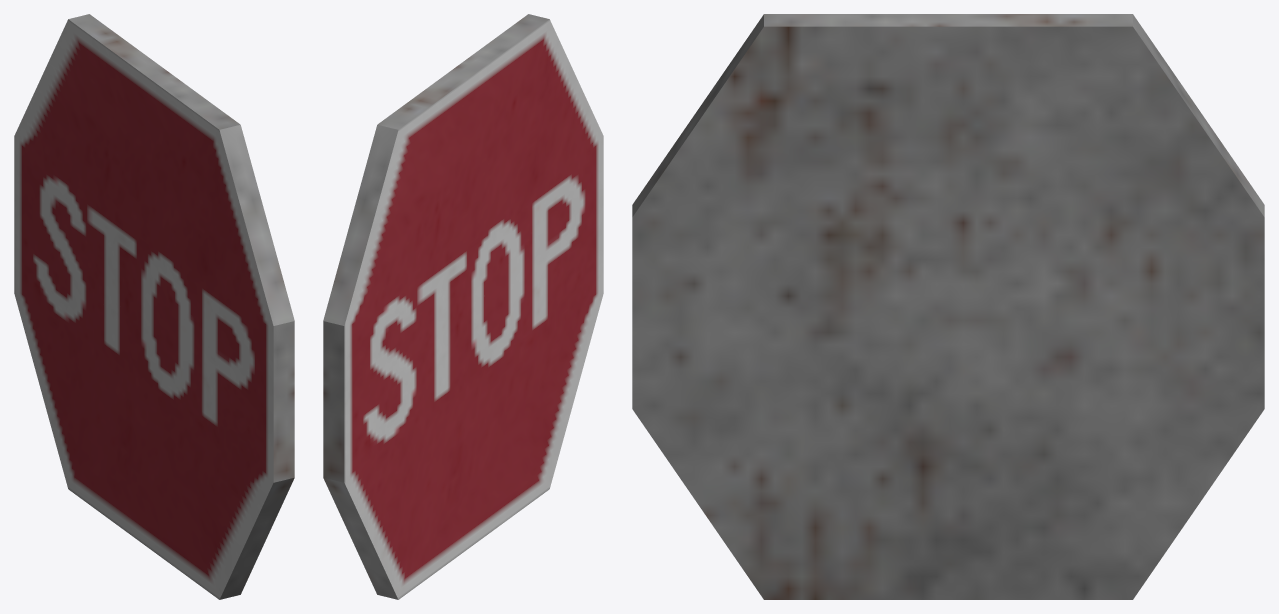
The model's file is Sign_Stop_Plate.obj.
The picture shows the model from 3 angles, left to right: view 1: azimuth 30°, elevation 25°; view 2: azimuth 150°, elevation 25°; view 3: azimuth 270°, elevation 25°; orthographic projection. The views are drawn at different scales.
Parts seen in each view (by area): view 1: Sign_Stop_Plate; view 2: Sign_Stop_Plate; view 3: Sign_Stop_Plate.
Part boxes in pixels (x1,y1,x2,y2): Sign_Stop_Plate: (14,14,294,599); Sign_Stop_Plate: (323,14,603,599); Sign_Stop_Plate: (632,14,1264,599).
Size of the model in its own units: 0.0226 by 0.4768 by 0.4768.
